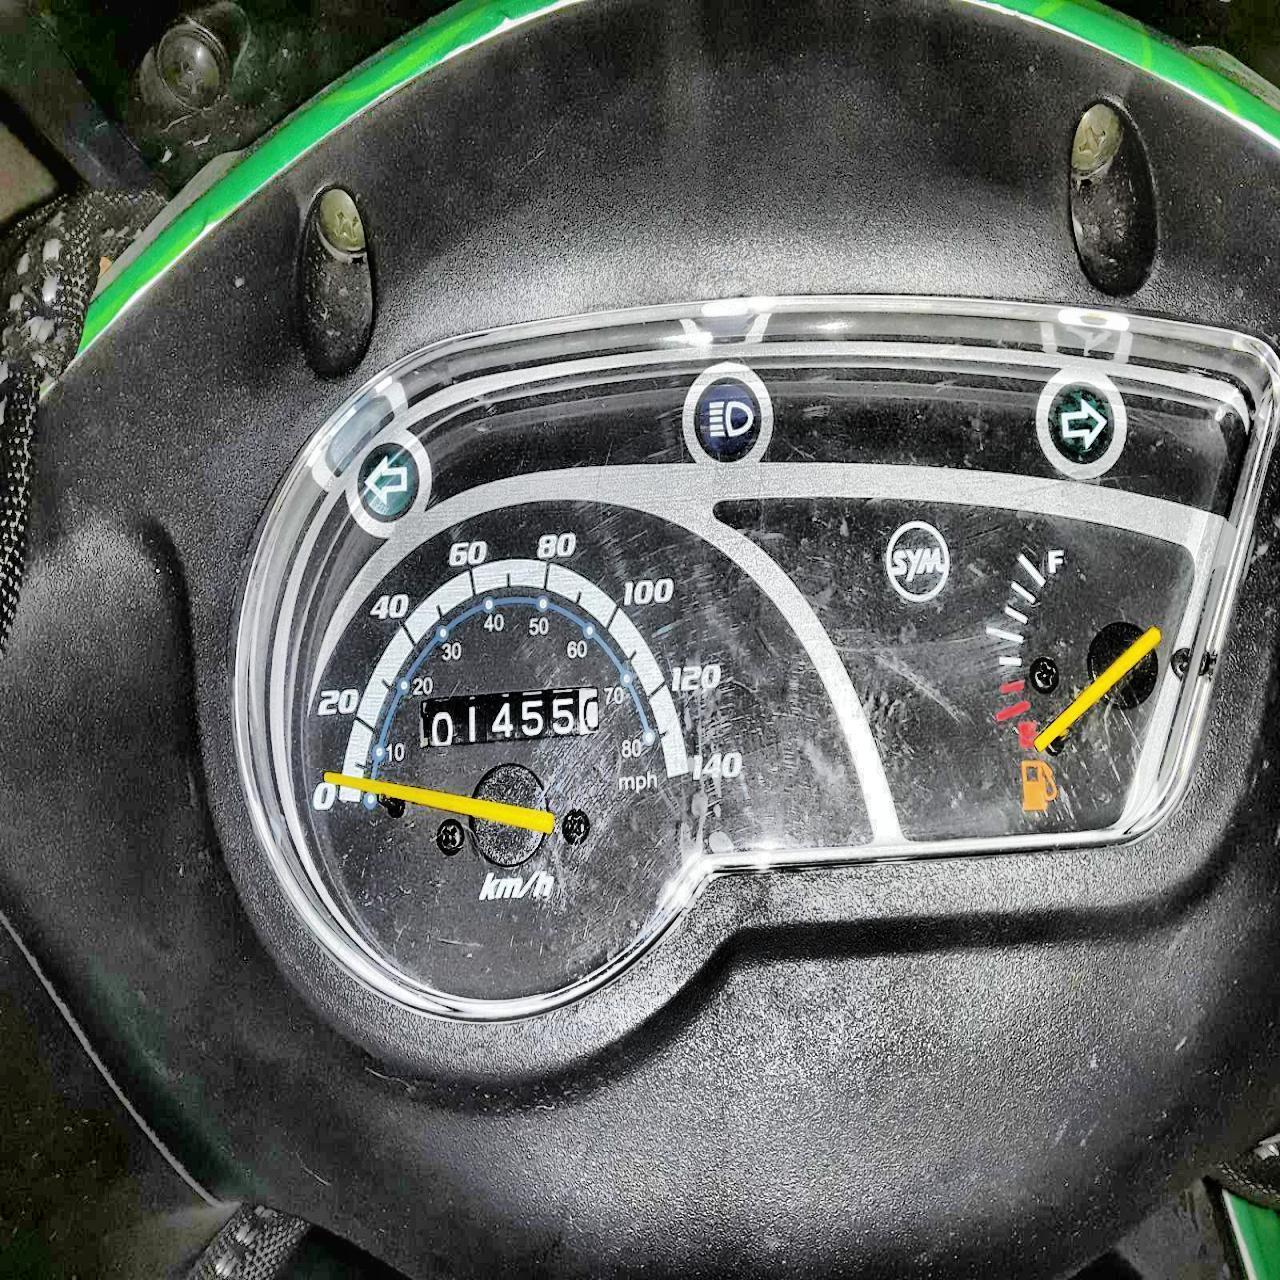0: (430, 709, 452, 745), (580, 693, 598, 731), (422, 681, 433, 694)
1: (464, 703, 478, 741)
2: (415, 681, 422, 695)
4: (490, 699, 512, 738)
5: (551, 695, 574, 734), (520, 697, 543, 737)
odometer: (415, 680, 602, 750)
